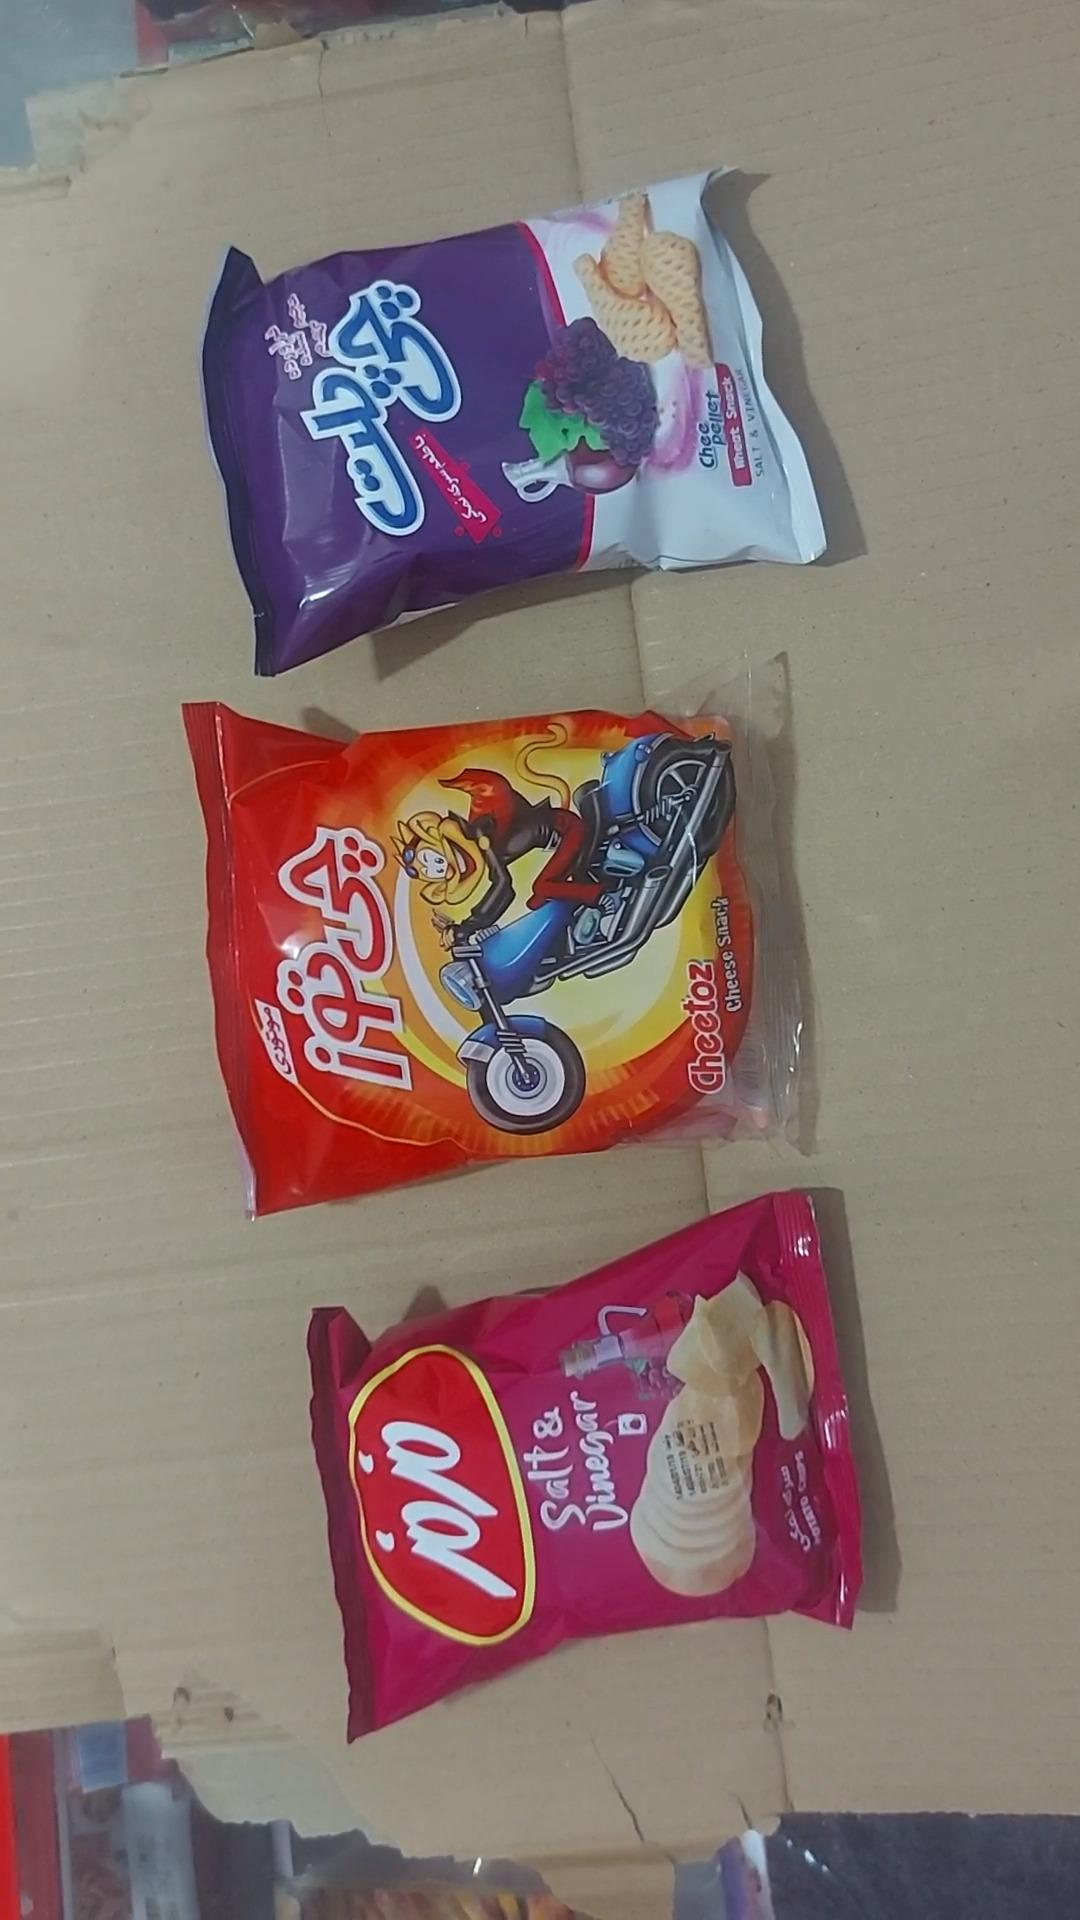Chee pellet vinegar: (200, 165, 829, 680)
Cheetoz snack 30g: (178, 651, 798, 1221)
Maz Maz vinegar chips: (305, 1192, 864, 1746)
